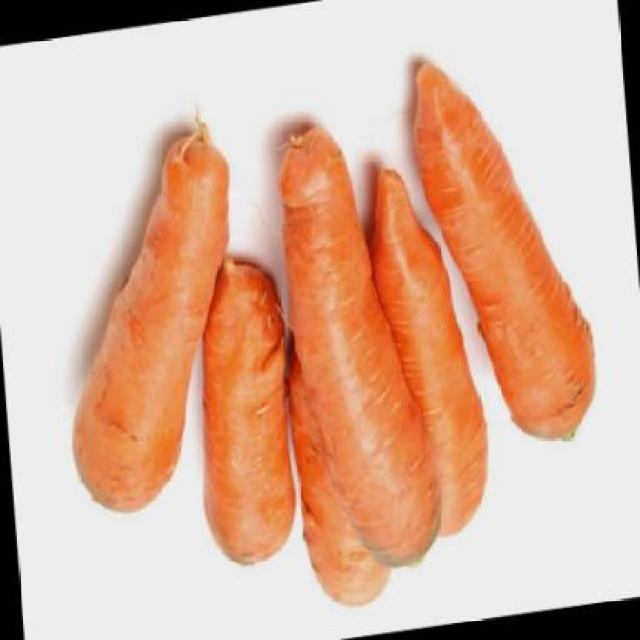carrot: (271, 112, 443, 580), (407, 41, 599, 459), (49, 125, 253, 518), (361, 155, 493, 543), (183, 246, 303, 572), (283, 332, 391, 612)
